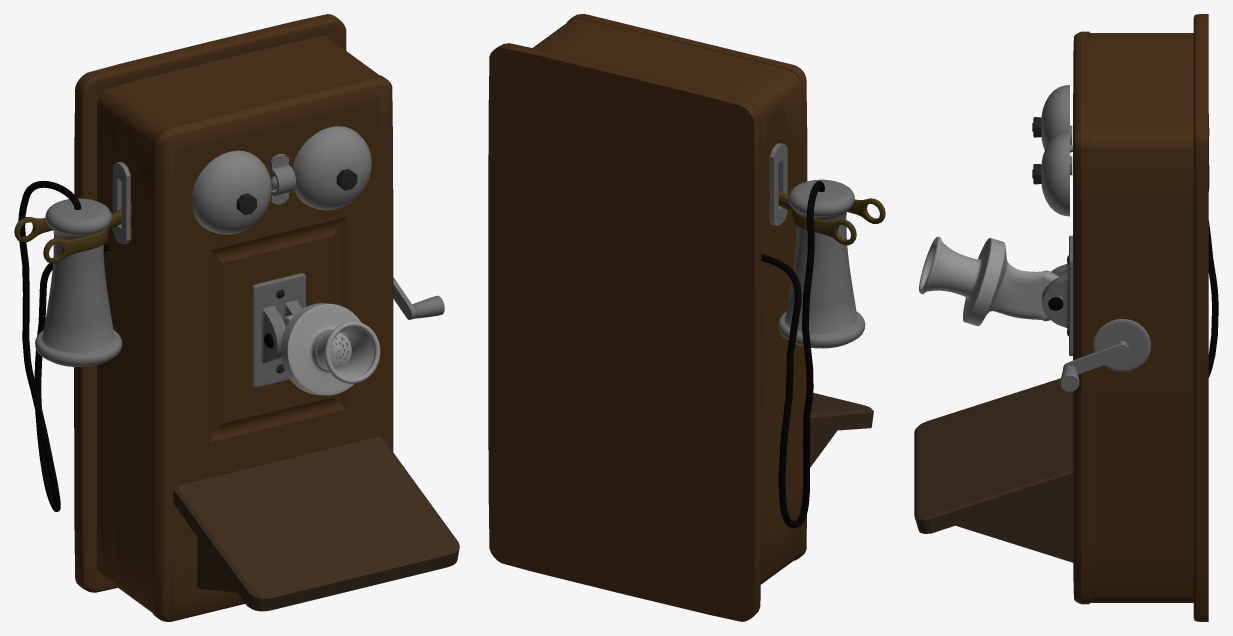
The model's file is 1_phone.fbx.
3 views of the same model, side by side, from view 1: azimuth 30°, elevation 25°; view 2: azimuth 150°, elevation 25°; view 3: azimuth 270°, elevation 25° (orthographic). The views are drawn at different scales.
Parts seen in each view (by area): view 1: MicSwivel; view 2: MicSwivel; view 3: MicSwivel.
Part boxes in pixels (x1=…): MicSwivel: x1=14, y1=14, x2=459, y2=621; MicSwivel: x1=488, y1=14, x2=885, y2=621; MicSwivel: x1=914, y1=14, x2=1218, y2=621.
Bounding box in the file's own units: 400 × 529 × 294.
